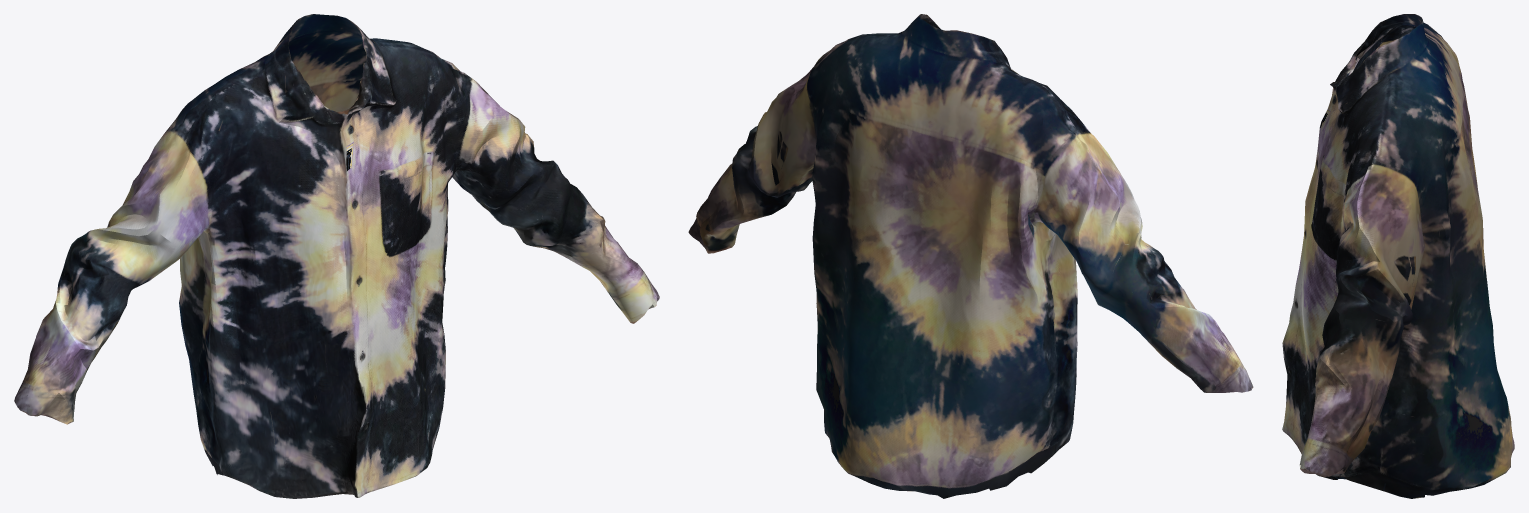
The picture shows the model from 3 angles, left to right: view 1: azimuth 30°, elevation 25°; view 2: azimuth 150°, elevation 25°; view 3: azimuth 270°, elevation 25°; orthographic projection. The views are drawn at different scales.
Parts seen in each view (by area): view 1: TieDye; view 2: TieDye; view 3: TieDye.
Boxes of the visible parts, x1,y1,x2,y2 form: TieDye: [14, 14, 659, 498]; TieDye: [688, 14, 1253, 498]; TieDye: [1282, 14, 1514, 498].
Size of the model in its own units: 0.9263 by 0.6552 by 0.3131.
Materials: 1 (1 with a texture image).
